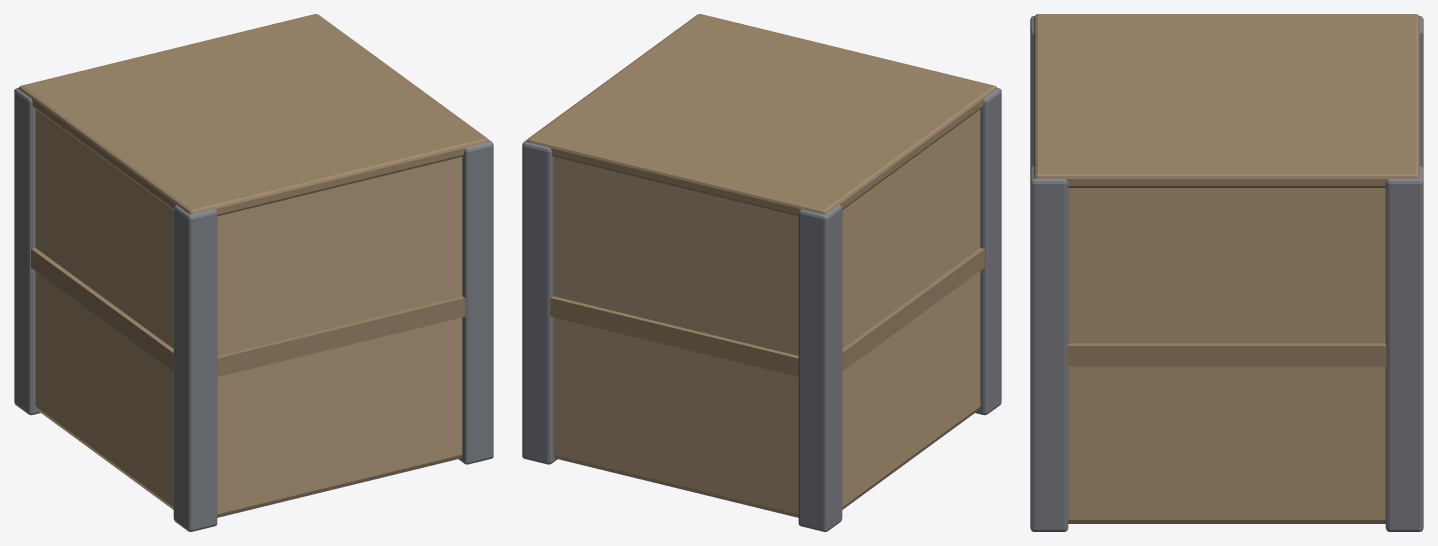
The model's file is prop_crate.fbx.
3 views of the same model, side by side, from view 1: azimuth 30°, elevation 25°; view 2: azimuth 150°, elevation 25°; view 3: azimuth 270°, elevation 25° (orthographic). The views are drawn at different scales.
Visible parts, largest first — view 1: prop_crate; view 2: prop_crate; view 3: prop_crate.
Boxes of the visible parts, box(x1,y1,x2,y2) form: prop_crate: box(14, 14, 493, 531); prop_crate: box(522, 14, 1001, 531); prop_crate: box(1030, 14, 1423, 531).
Size of the model in its own units: 1 by 1 by 1.
